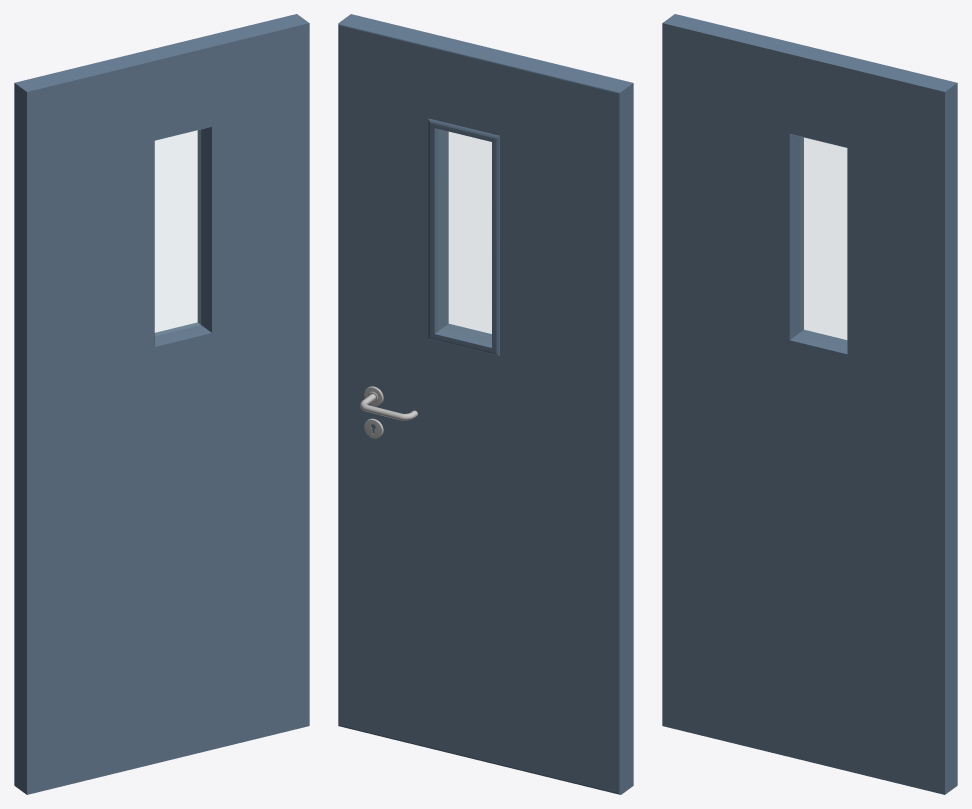
Rendered from right_door.glb.
The picture shows the model from 3 angles, left to right: view 1: azimuth 30°, elevation 25°; view 2: azimuth 150°, elevation 25°; view 3: azimuth 330°, elevation 25°; orthographic projection.
Parts seen in each view (by area): view 1: Object1900.001, 36fasdas2113.001; view 2: Object1900.001, 36fasdas2113.001, Object1901.001; view 3: Object1900.001, 36fasdas2113.001.
Part boxes in pixels (x1,y1,x2,y2): Object1900.001: (14, 14, 309, 794); 36fasdas2113.001: (155, 130, 200, 335); Object1900.001: (338, 14, 633, 794); 36fasdas2113.001: (438, 129, 491, 343); Object1901.001: (360, 386, 417, 438); Object1900.001: (662, 14, 957, 794); 36fasdas2113.001: (801, 137, 846, 342).
Size of the model in its own units: 1.37 by 3.25 by 0.2447.
